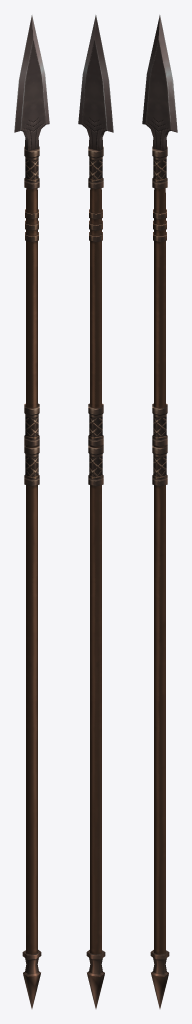
File: 83_weapon.FBX
The picture shows the model from 3 angles, left to right: view 1: azimuth 30°, elevation 25°; view 2: azimuth 150°, elevation 25°; view 3: azimuth 330°, elevation 25°; orthographic projection.
Visible parts, largest first — view 1: 83_weapon; view 2: 83_weapon; view 3: 83_weapon.
Boxes of the visible parts, x1,y1,x2,y2 form: 83_weapon: (14,15,49,1008); 83_weapon: (78,15,113,1008); 83_weapon: (142,15,177,1008).
Bounding box in the file's own units: 282 × 7539 × 112.
